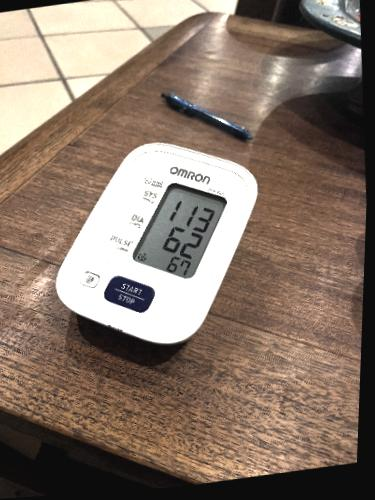bpm: (128, 170, 233, 289)
